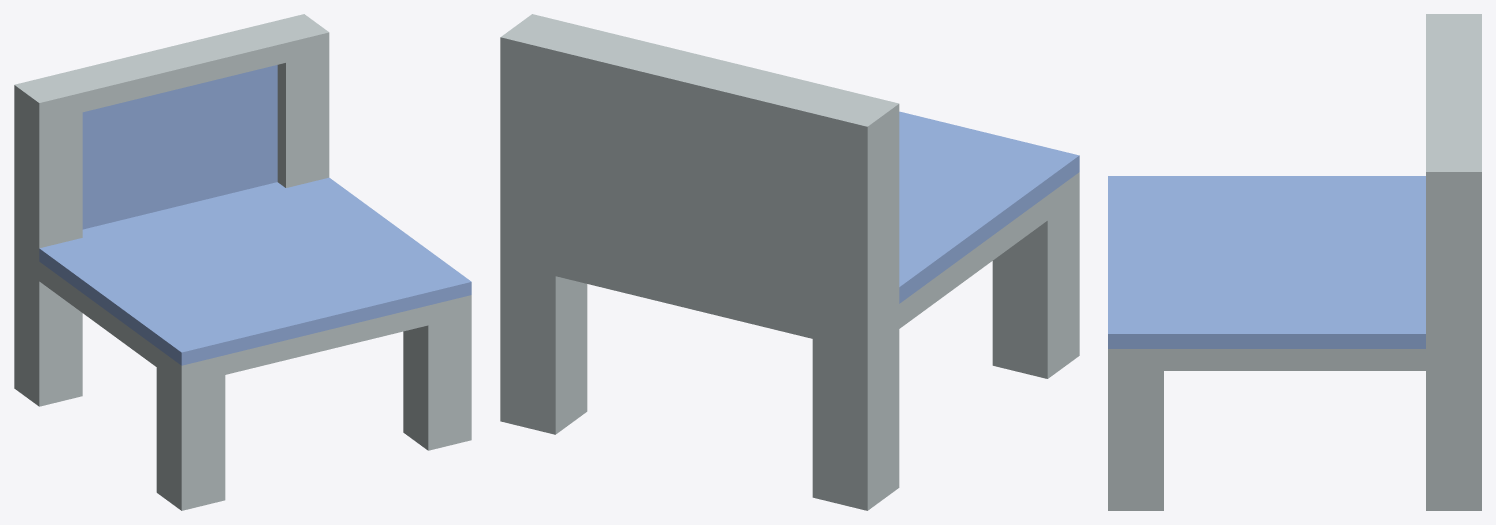
File: kn-chair-modern-cushion.glb
The picture shows the model from 3 angles, left to right: view 1: azimuth 30°, elevation 25°; view 2: azimuth 150°, elevation 25°; view 3: azimuth 270°, elevation 25°; orthographic projection. The views are drawn at different scales.
Parts seen in each view (by area): view 1: chairModernCushion(Clone); view 2: chairModernCushion(Clone); view 3: chairModernCushion(Clone).
Boxes of the visible parts, <box> form: chairModernCushion(Clone): <box>14,14,471,510</box>; chairModernCushion(Clone): <box>500,14,1079,510</box>; chairModernCushion(Clone): <box>1108,14,1481,510</box>.
Bounding box in the file's own units: 1 × 1 × 1.
